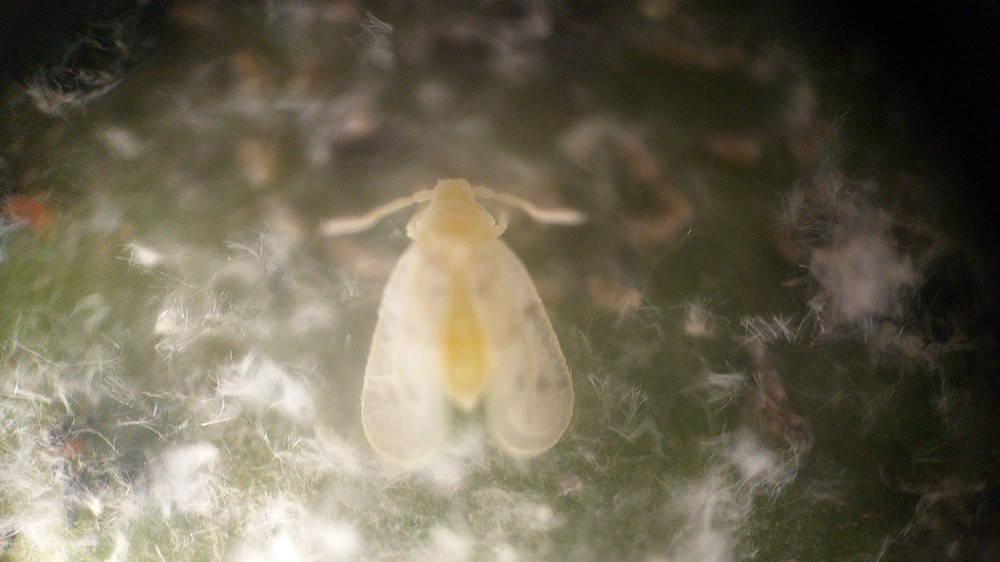Mosca Blanca: (308, 170, 611, 476)
